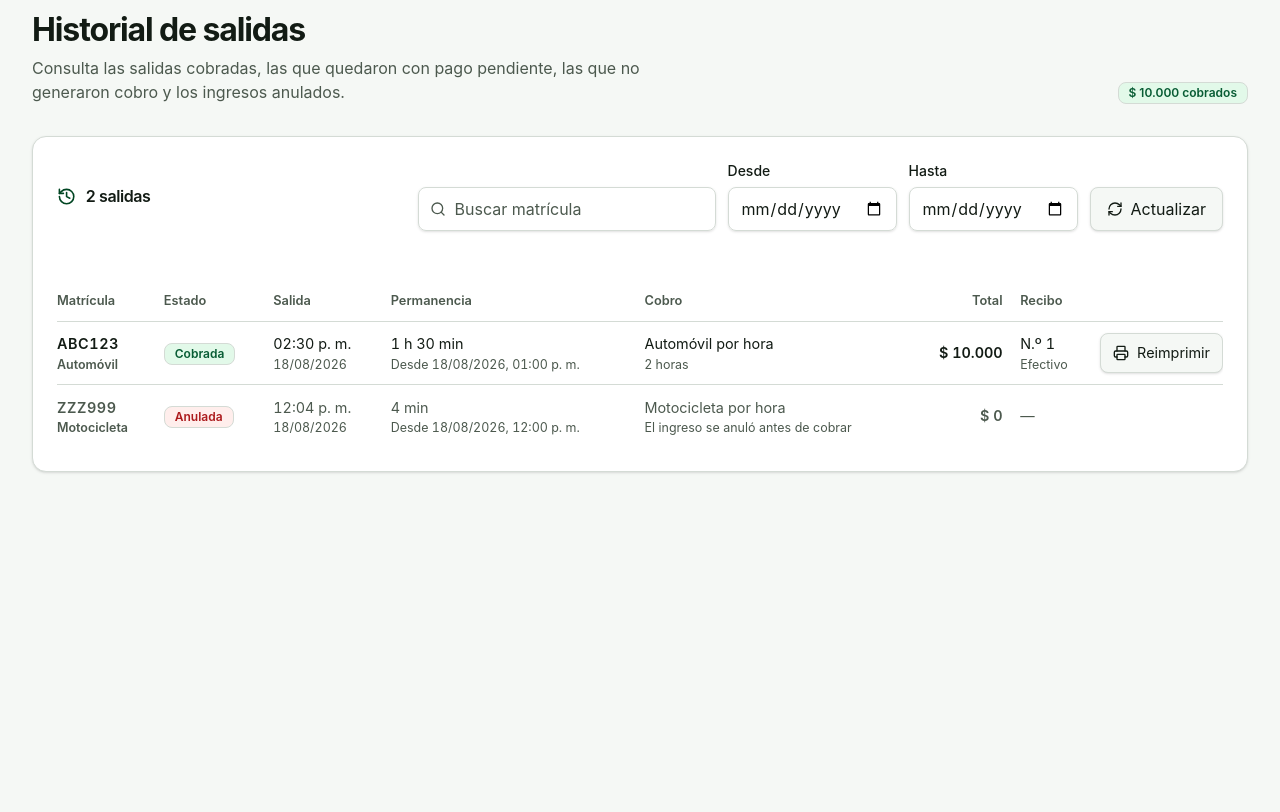
Test case: Historial de salidas › filtra por matrícula y explica cuando no hay coincidencias
Expected: the table is shown, [57,279,1223,447]
Type "QQQ" into the field with placeholder "Buscar matrícula" at (567, 209), box [418,187,716,231]
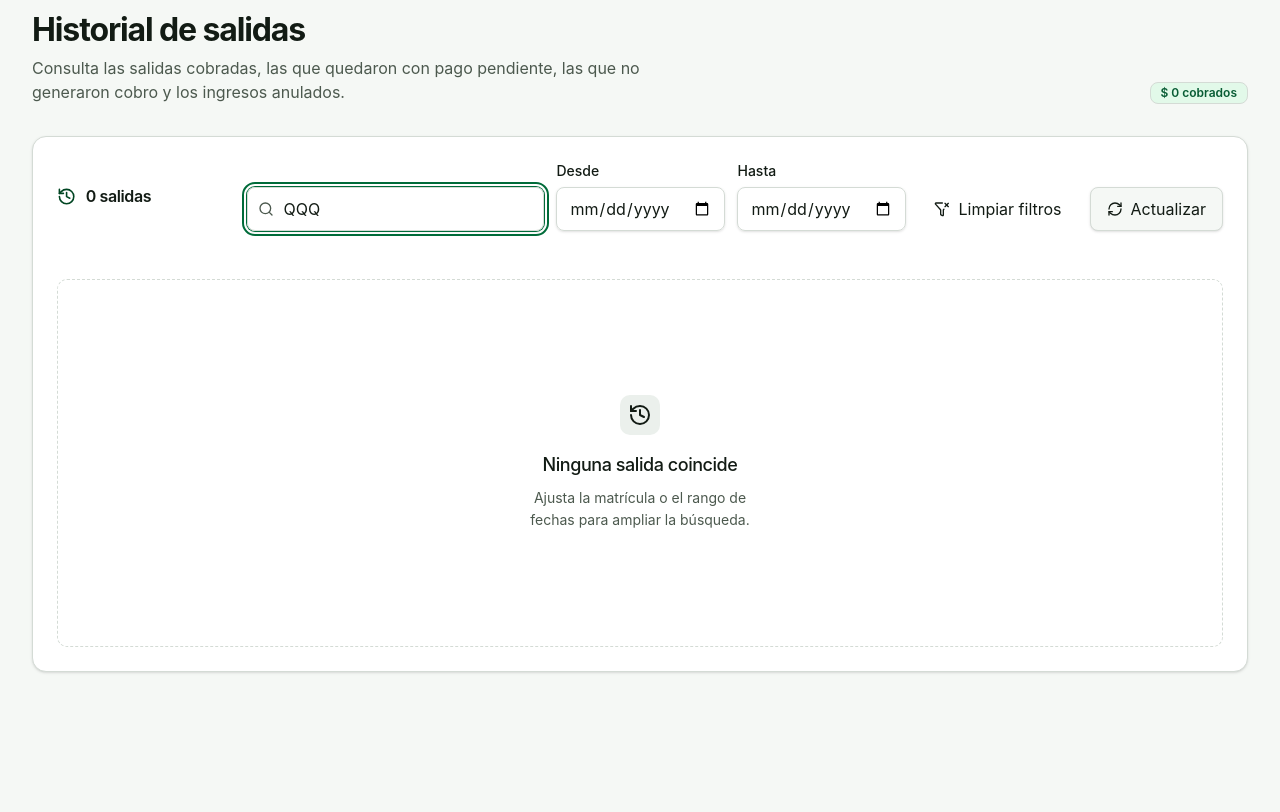
Expected: the heading "Ninguna salida coincide" is shown, [543,451,737,479]
Expected: the heading "0 salidas" is shown, [57,187,151,206]
Expected: the text "Ajusta la matrícula o el rango de fechas" is shown, [530,489,750,528]
